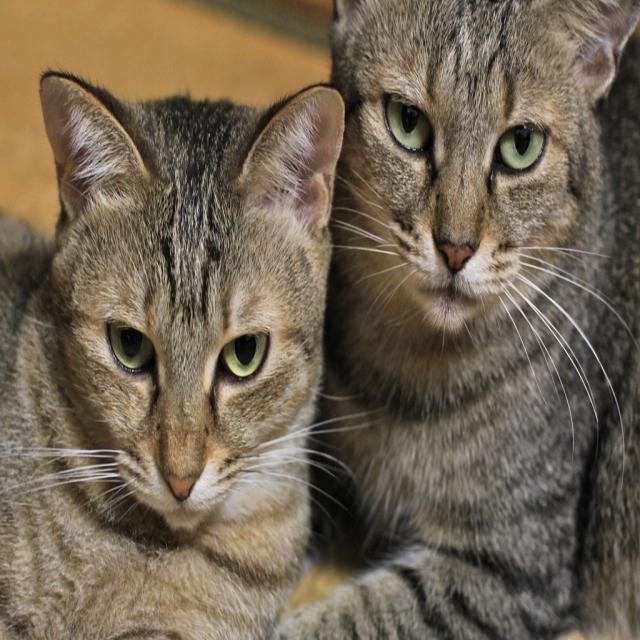Cat: (272, 0, 639, 639), (0, 55, 383, 639)
